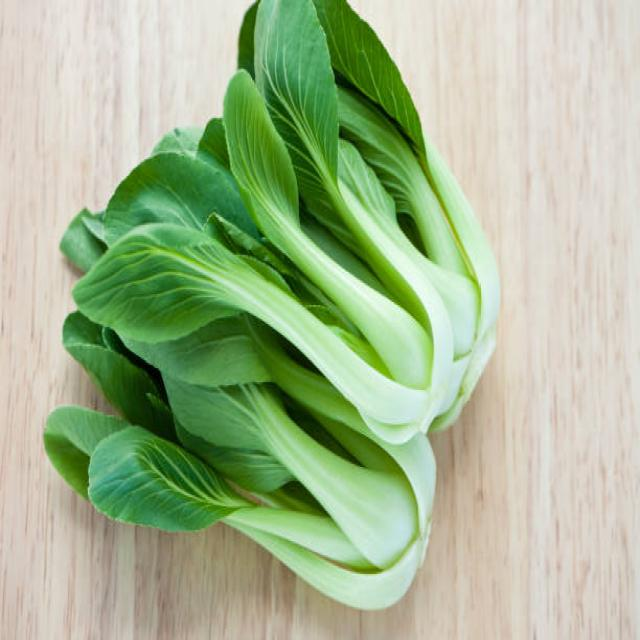Bok Choy: (21, 405, 425, 610), (206, 132, 524, 388)
